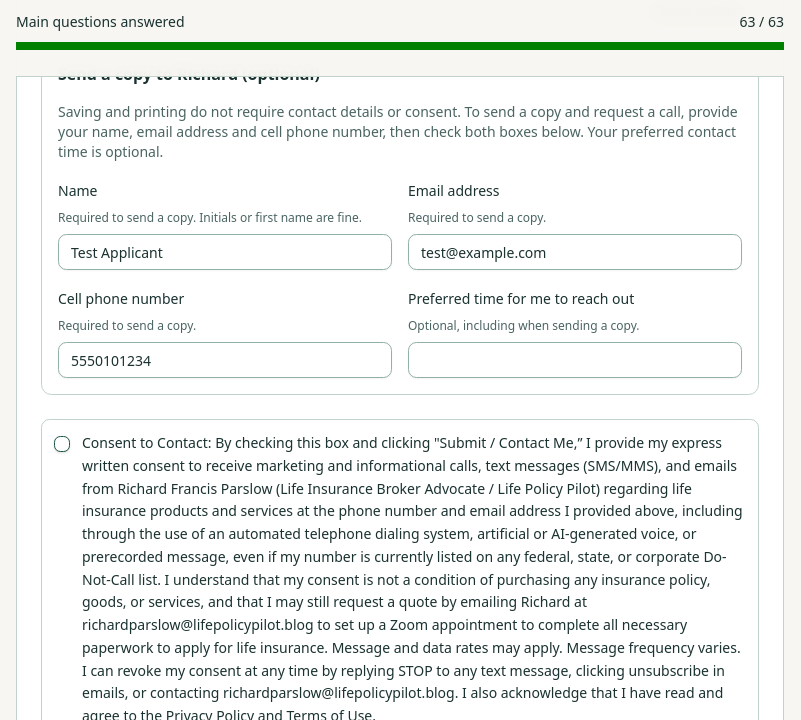
Test case: draft saving with an incomplete Cell phone number › keeps saving every other answer and holds back only the incomplete one
(page scrolled)
Replace the text in the field labelled "Cell phone number" with "555" at (225, 360), box [58,342,392,378]
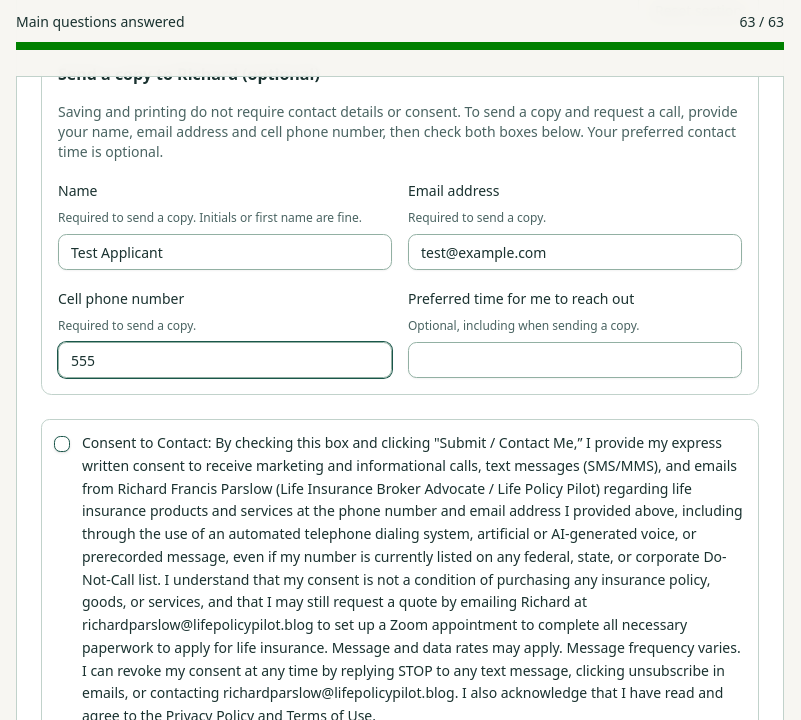
Type " Smith" into the field labelled "Name".
click(225, 252); type(" Smith")  # box [58,234,392,270]
(page scrolled)
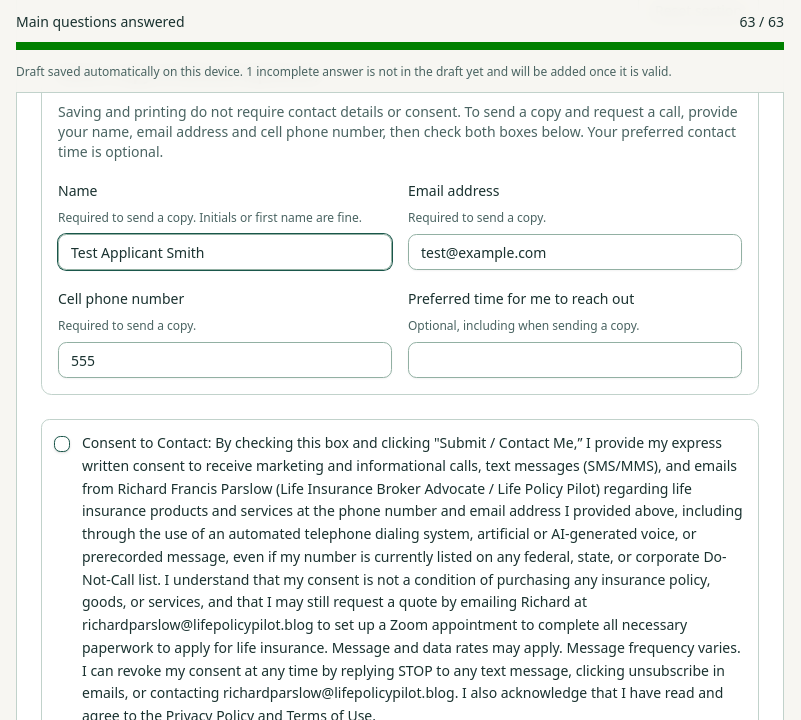
Result: the text "1 incomplete answer is not in the draft yet" is shown at [16,63,672,80]
